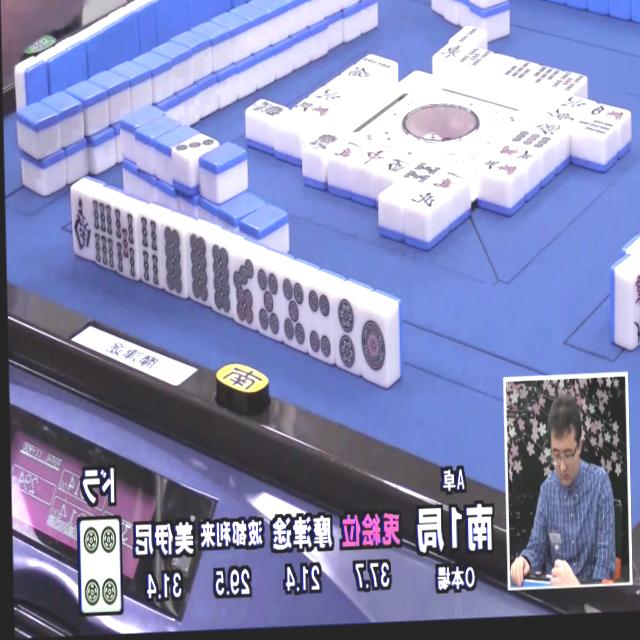m9: (629, 268, 640, 348)
s4: (135, 215, 165, 293)
s5: (110, 209, 140, 283)
s6: (90, 199, 117, 274)
south: (70, 189, 93, 257)
t1: (355, 306, 392, 385)
t2: (329, 294, 365, 376)
t4: (77, 517, 122, 614), (304, 286, 336, 365)
t5: (277, 274, 310, 352), (252, 264, 284, 342)
t7: (229, 253, 261, 329)
t8: (182, 232, 213, 308), (160, 225, 189, 301), (207, 241, 235, 317)
